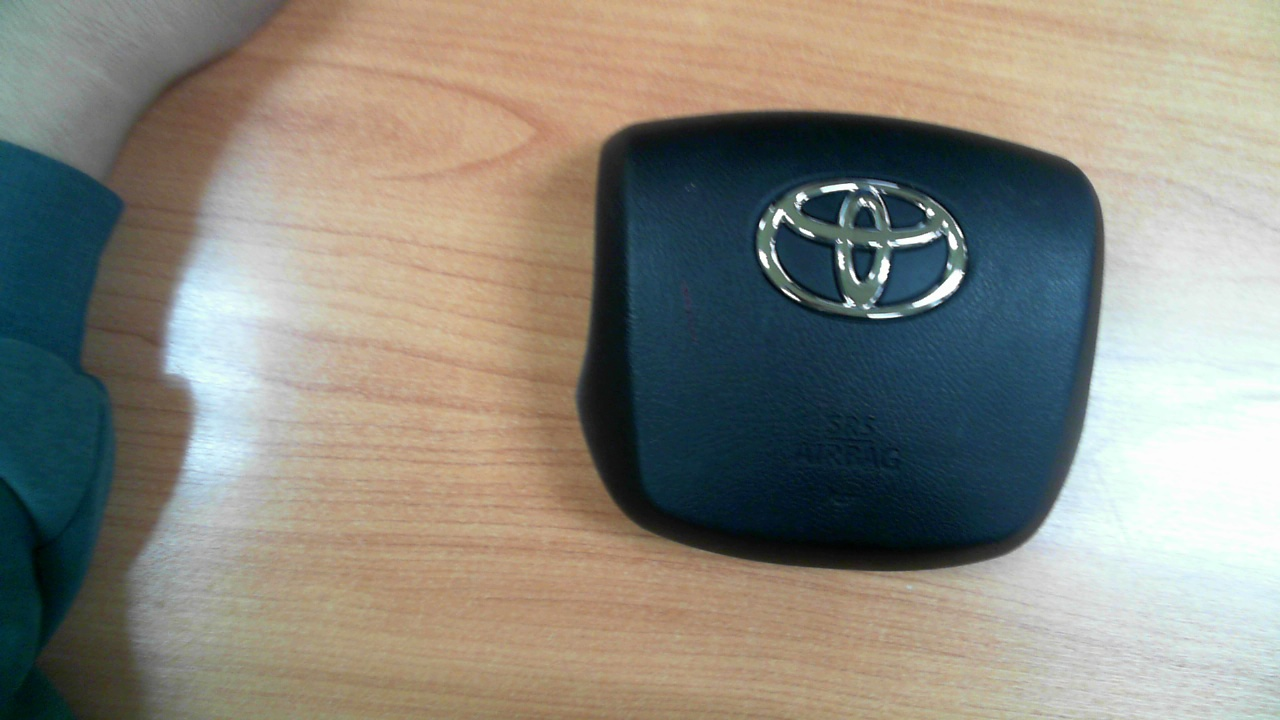Airbag: (575, 113, 1115, 571)
Toyota: (755, 177, 969, 320)
